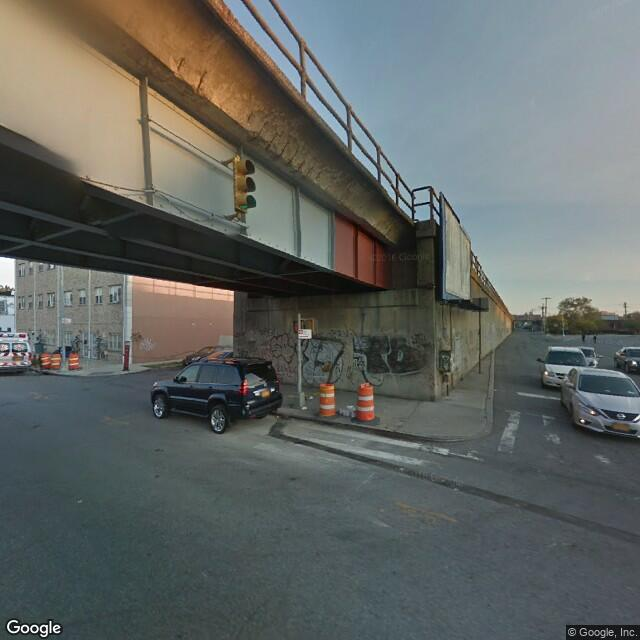litter: (339, 395, 355, 417), (309, 391, 317, 403), (300, 405, 314, 411)
